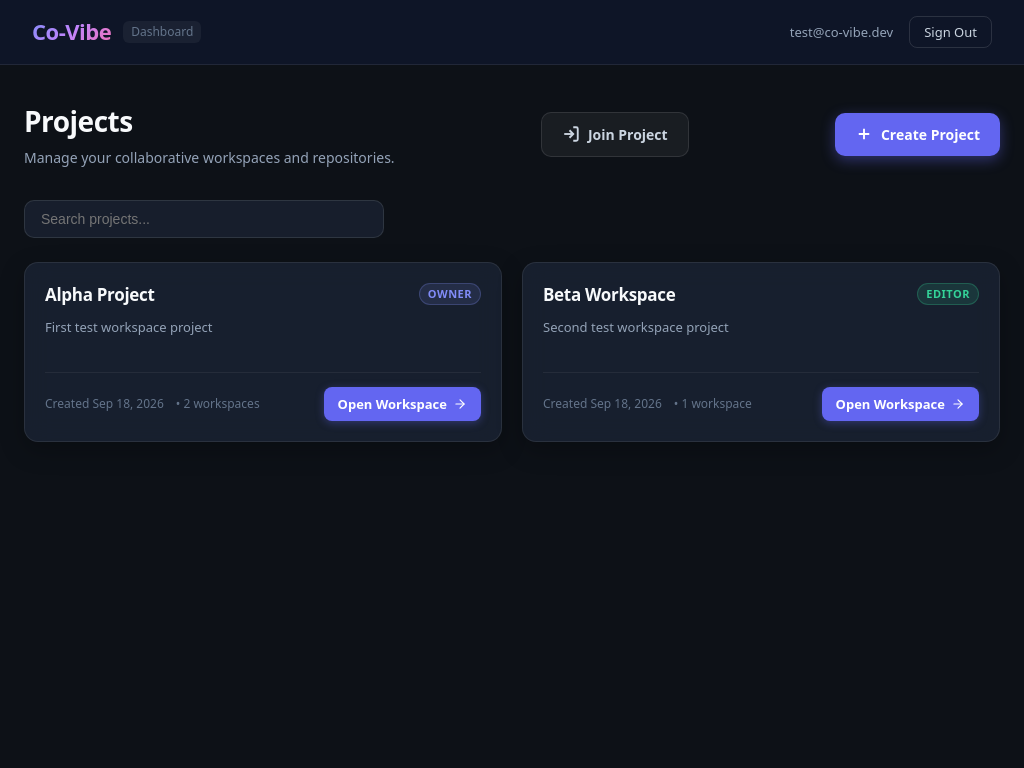
Test: ProjectsPage Component › opens CreateProjectModal when Create Project button is clicked
The image size is (1024, 768).
Click the button with test id "create-project-btn" at (917, 134), box 835,113 -> 1000,156
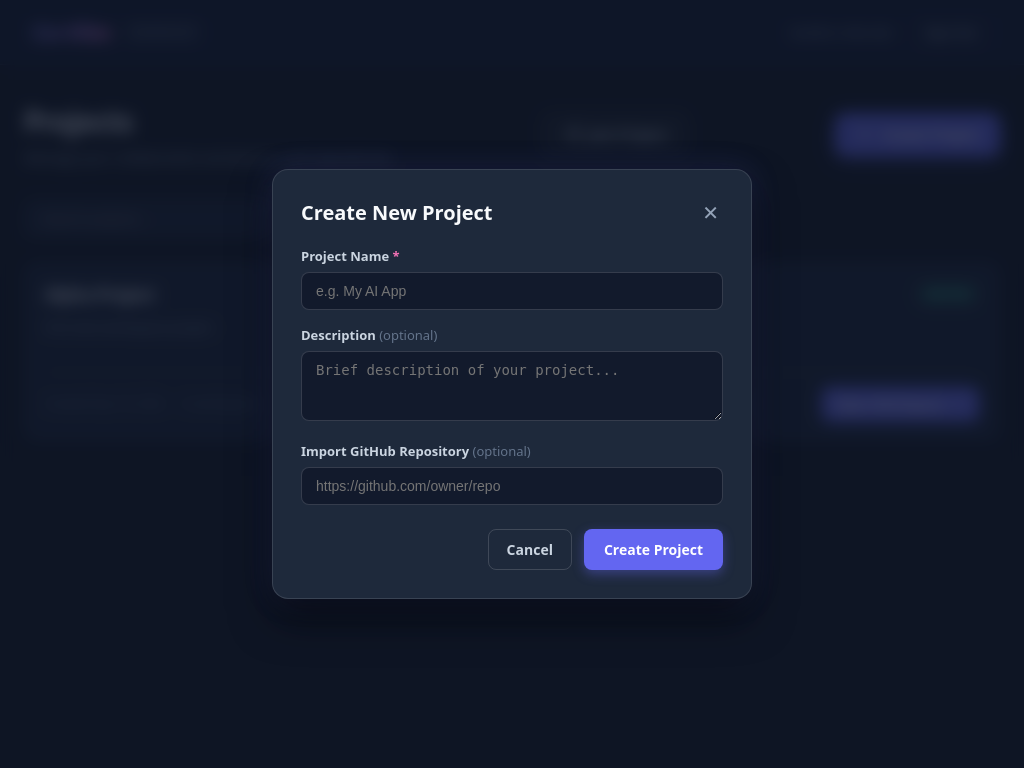
expect the element with test id "create-project-modal" is shown: met, box 272,169 -> 752,599
expect the field labelled "Project Name *" is shown: met, box 301,272 -> 723,310
